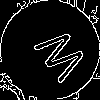W: (25, 25, 90, 90)
